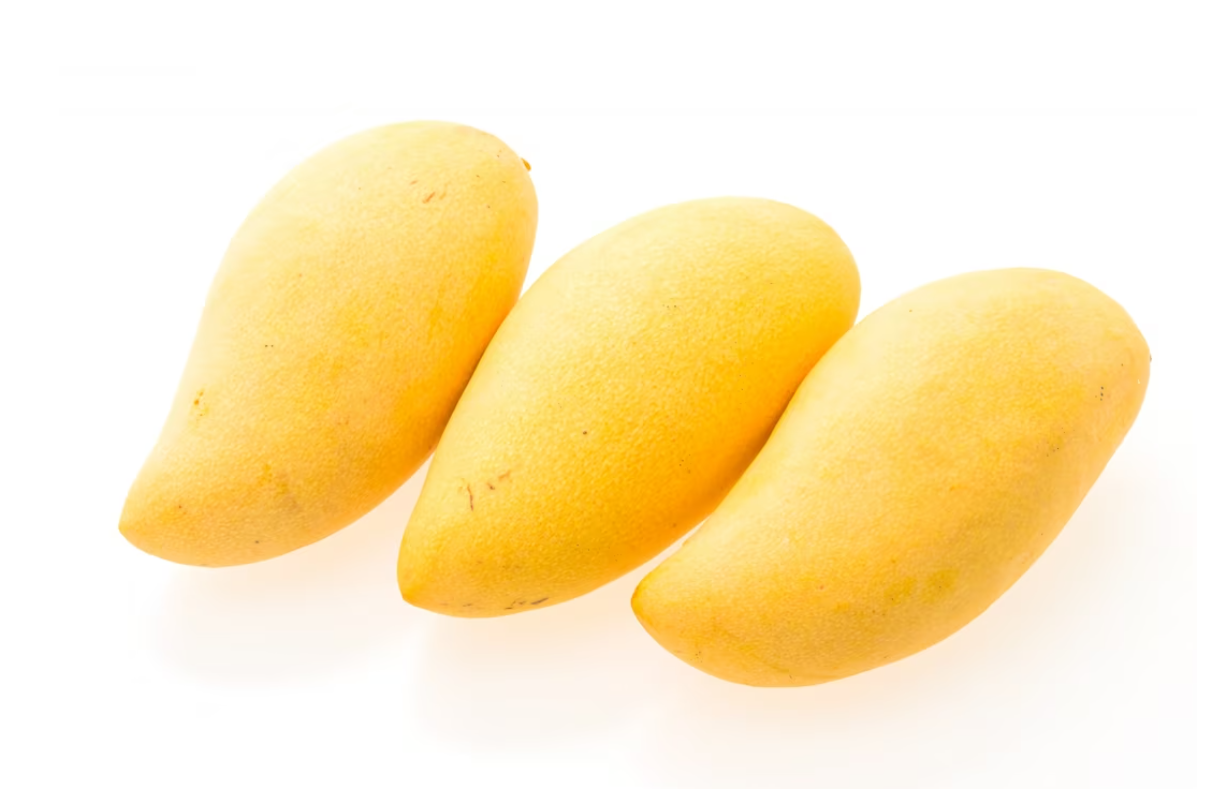mango: (630, 269, 1154, 686), (397, 199, 865, 621), (117, 119, 537, 568)
